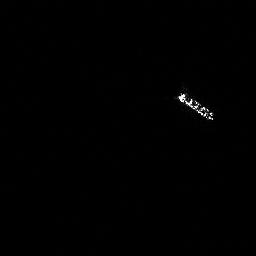ship: (176, 90, 215, 122)
